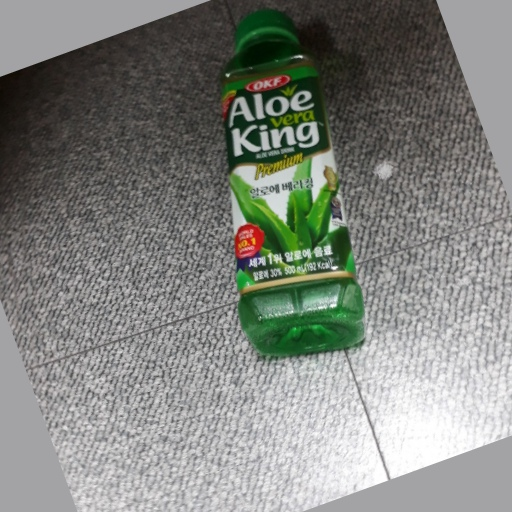Plastic_0: (217, 9, 366, 359)
